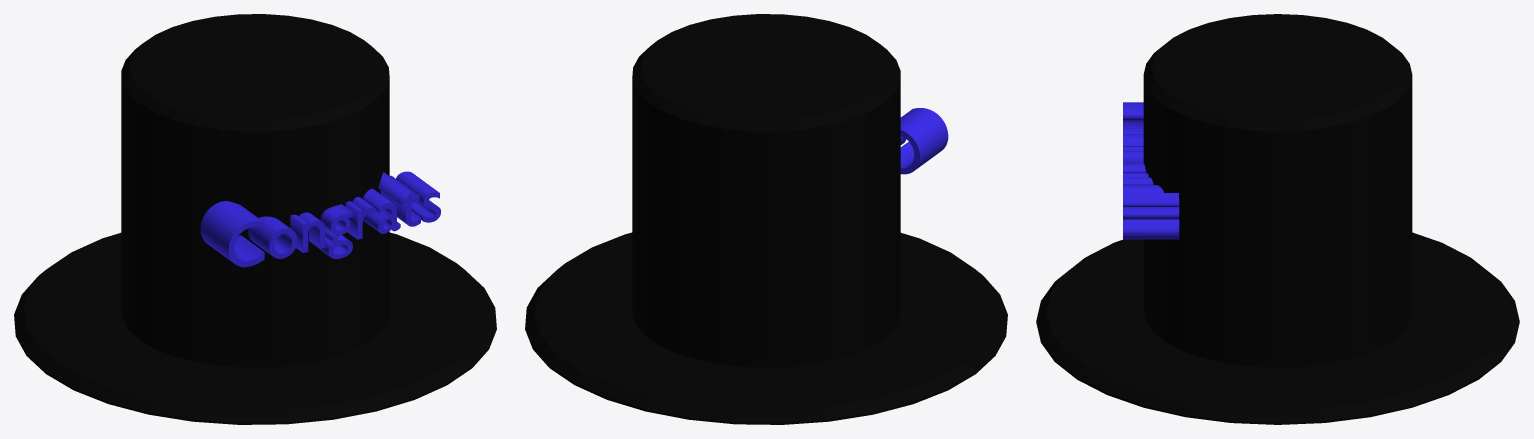
File: CongratsHat.fbx
3 renders of one model, left to right at view 1: azimuth 30°, elevation 25°; view 2: azimuth 150°, elevation 25°; view 3: azimuth 270°, elevation 25°, orthographic.
Parts seen in each view (by area): view 1: Cylinder, Text; view 2: Cylinder, Text; view 3: Cylinder, Text.
Part boxes in pixels (x1,y1,x2,y2): Cylinder: [14, 14, 496, 424]; Text: [200, 171, 440, 267]; Cylinder: [525, 14, 1007, 424]; Text: [900, 108, 948, 174]; Cylinder: [1036, 14, 1519, 424]; Text: [1123, 102, 1179, 239].
Bounding box in the file's own units: 360 × 210 × 360.
